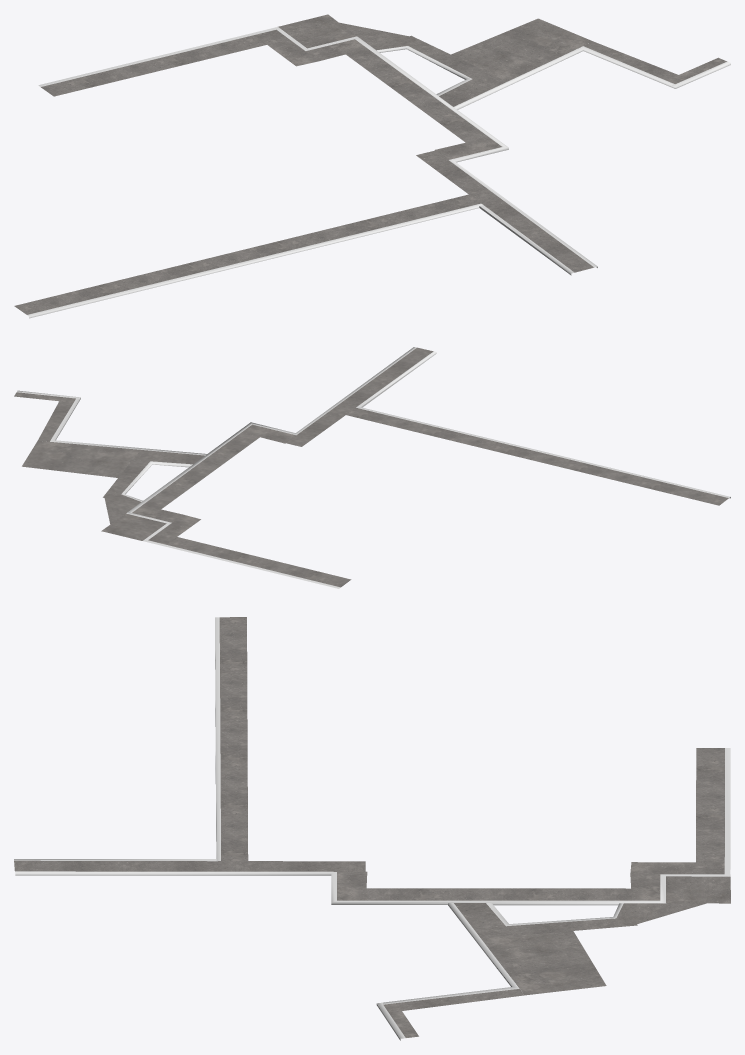
The model's file is vereda2.glb.
3 views of the same model, one above another, from view 1: azimuth 30°, elevation 25°; view 2: azimuth 150°, elevation 25°; view 3: azimuth 270°, elevation 25° (orthographic). The views are drawn at different scales.
Visible parts, largest first — view 1: curb.002; view 2: curb.002; view 3: curb.002.
Part boxes in pixels (box(x1,y1,x2,y2)): curb.002: box(14, 14, 730, 318); curb.002: box(14, 347, 730, 588); curb.002: box(14, 617, 730, 1040).
Size of the model in its own units: 1055 by 2.84 by 758.
2 materials, 1 textured.
